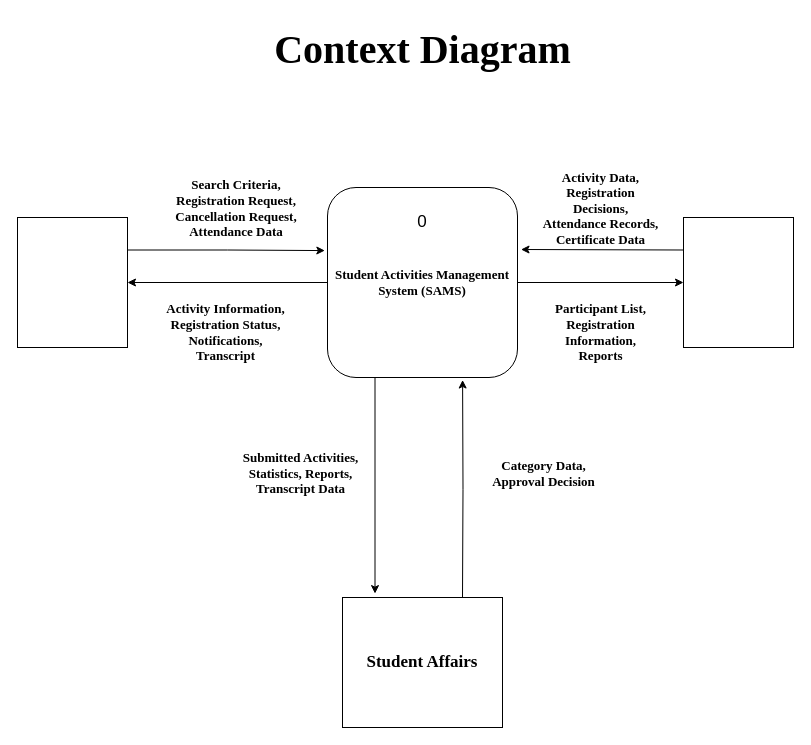
This 811x745 diagram has some shape labels left out. Here are the shapes that lost their labels. From the top down, the box of each, then its label:
(16, 216, 128, 348): Student
(682, 216, 794, 348): Activity Organizer
